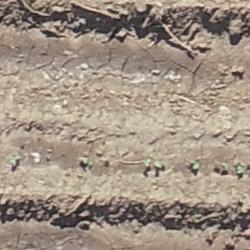cotton: (237, 164, 244, 173), (193, 161, 199, 169), (145, 160, 151, 167), (155, 161, 161, 167), (12, 158, 16, 164)
